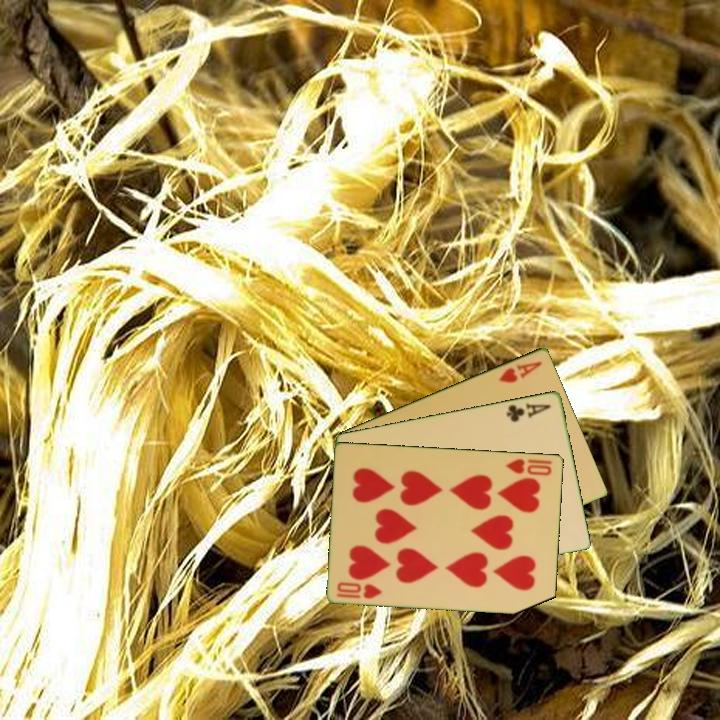10h: (503, 455, 555, 478), (333, 578, 385, 601)
Ac: (503, 399, 554, 425)
Ah: (495, 357, 545, 386)
